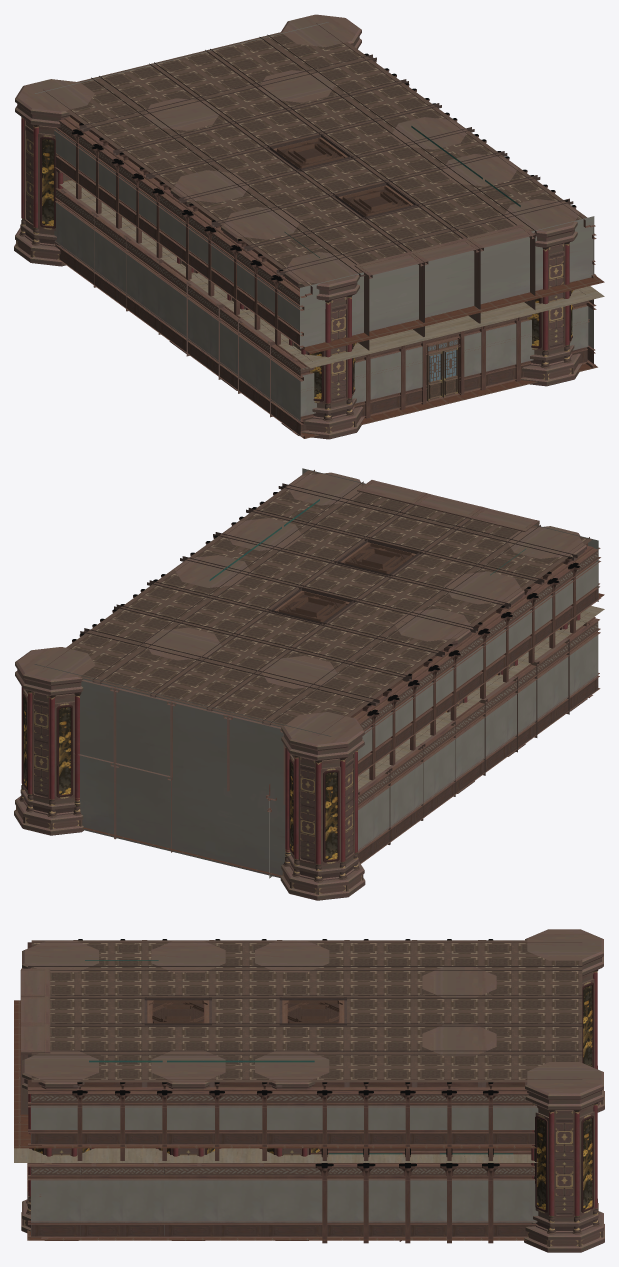
Rendered from IndoorScene_Ly_Bank.fbx.
3 views of the same model, one above another, from view 1: azimuth 30°, elevation 25°; view 2: azimuth 150°, elevation 25°; view 3: azimuth 270°, elevation 25° (orthographic). The views are drawn at different scales.
Visible parts, largest first — view 1: Indoor_Ly_Build_Bank_01_Vo, Indoor_Ly_Build_Comp_Bank_01_Lod0 (×10), Indoor_Ly_Build_Comp_Bank_04_Vo (×3), Indoor_Ly_Light_Common_03_Vo (1), Indoor_Ly_Light_Common_03_Vo; view 2: Indoor_Ly_Build_Bank_01_Vo, Indoor_Ly_Build_Comp_Bank_01_Lod0 (×10), Indoor_Ly_Build_Comp_Bank_04_Vo (×3), Indoor_Ly_Light_Common_03_Vo (1), Indoor_Ly_Light_Common_03_Vo; view 3: Indoor_Ly_Build_Bank_01_Vo, Indoor_Ly_Build_Comp_Bank_01_Lod0 (×10), Indoor_Ly_Build_Comp_Bank_04_Vo (×3), Indoor_Ly_Light_Common_03_Vo, Indoor_Ly_Light_Common_03_Vo (1), Indoor_Ly_Prop_Pillar_01_Vo (4), Indoor_Ly_Prop_Pillar_01_Vo (5), Indoor_Ly_Prop_Pillar_01_Vo (6), Indoor_Ly_Prop_Pillar_01_Vo (8), Indoor_Ly_Prop_Pillar_01_Vo (7), Indoor_Ly_Prop_Pillar_01_Vo (24), Indoor_Ly_Prop_Pillar_01_Vo (20) (+8 smaller).
Boxes of the visible parts, box(x1,y1,x2,y2) form: Indoor_Ly_Build_Bank_01_Vo: box(35, 22, 604, 438); Indoor_Ly_Build_Comp_Bank_01_Lod0 (×10): box(14, 14, 582, 439); Indoor_Ly_Build_Comp_Bank_04_Vo (×3): box(354, 224, 535, 350); Indoor_Ly_Light_Common_03_Vo (1): box(335, 182, 419, 216); Indoor_Ly_Light_Common_03_Vo: box(269, 134, 351, 168); Indoor_Ly_Build_Bank_01_Vo: box(34, 468, 604, 878); Indoor_Ly_Build_Comp_Bank_01_Lod0 (×10): box(14, 472, 587, 900); Indoor_Ly_Build_Comp_Bank_04_Vo (×3): box(357, 480, 539, 531); Indoor_Ly_Light_Common_03_Vo (1): box(334, 539, 421, 573); Indoor_Ly_Light_Common_03_Vo: box(268, 588, 353, 622); Indoor_Ly_Build_Bank_01_Vo: box(14, 940, 582, 1241); Indoor_Ly_Build_Comp_Bank_01_Lod0 (×10): box(21, 929, 604, 1252); Indoor_Ly_Build_Comp_Bank_04_Vo (×3): box(20, 968, 50, 1114); Indoor_Ly_Light_Common_03_Vo: box(282, 997, 344, 1023); Indoor_Ly_Light_Common_03_Vo (1): box(147, 997, 209, 1023); Indoor_Ly_Prop_Pillar_01_Vo (4): box(315, 1148, 333, 1243); Indoor_Ly_Prop_Pillar_01_Vo (5): box(357, 1148, 375, 1243); Indoor_Ly_Prop_Pillar_01_Vo (6): box(399, 1148, 416, 1243); Indoor_Ly_Prop_Pillar_01_Vo (8): box(482, 1148, 499, 1243); Indoor_Ly_Prop_Pillar_01_Vo (7): box(440, 1148, 458, 1243); Indoor_Ly_Prop_Pillar_01_Vo (24): box(72, 1082, 87, 1160); Indoor_Ly_Prop_Pillar_01_Vo (20): box(257, 1082, 272, 1160).
Size of what is drawn, in the model's own units: 24.36 by 10.97 by 36.4.
